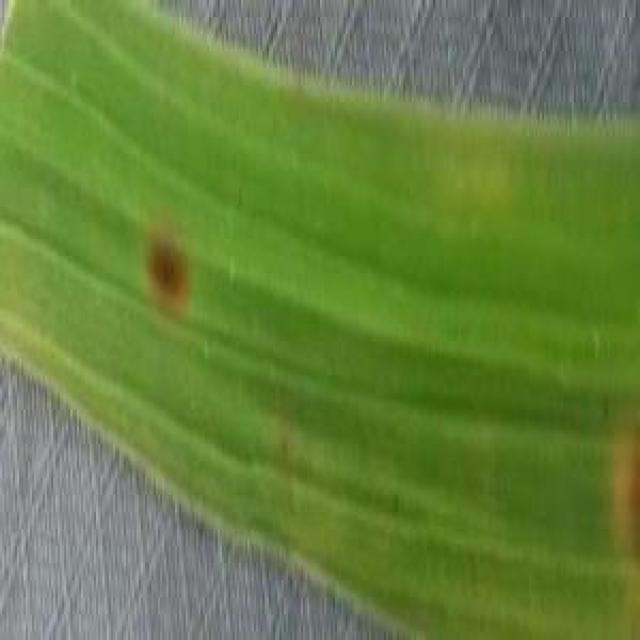Brown_Spot: (135, 223, 212, 314)
